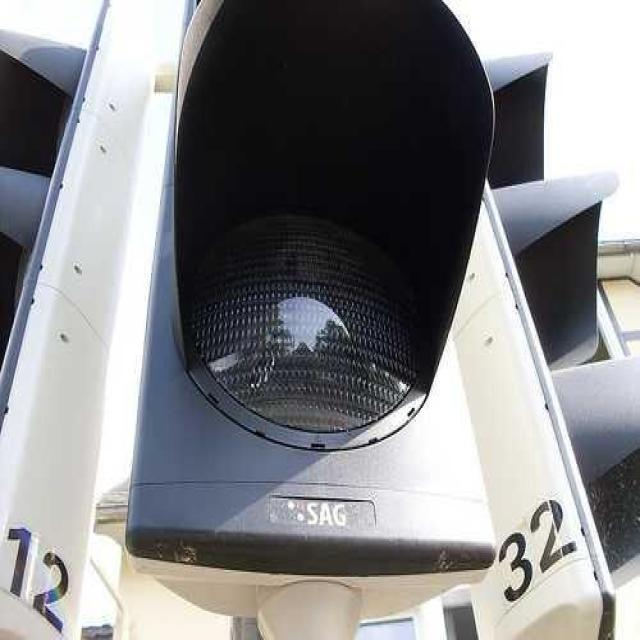Traffic Light -Off-: (122, 0, 520, 591)
